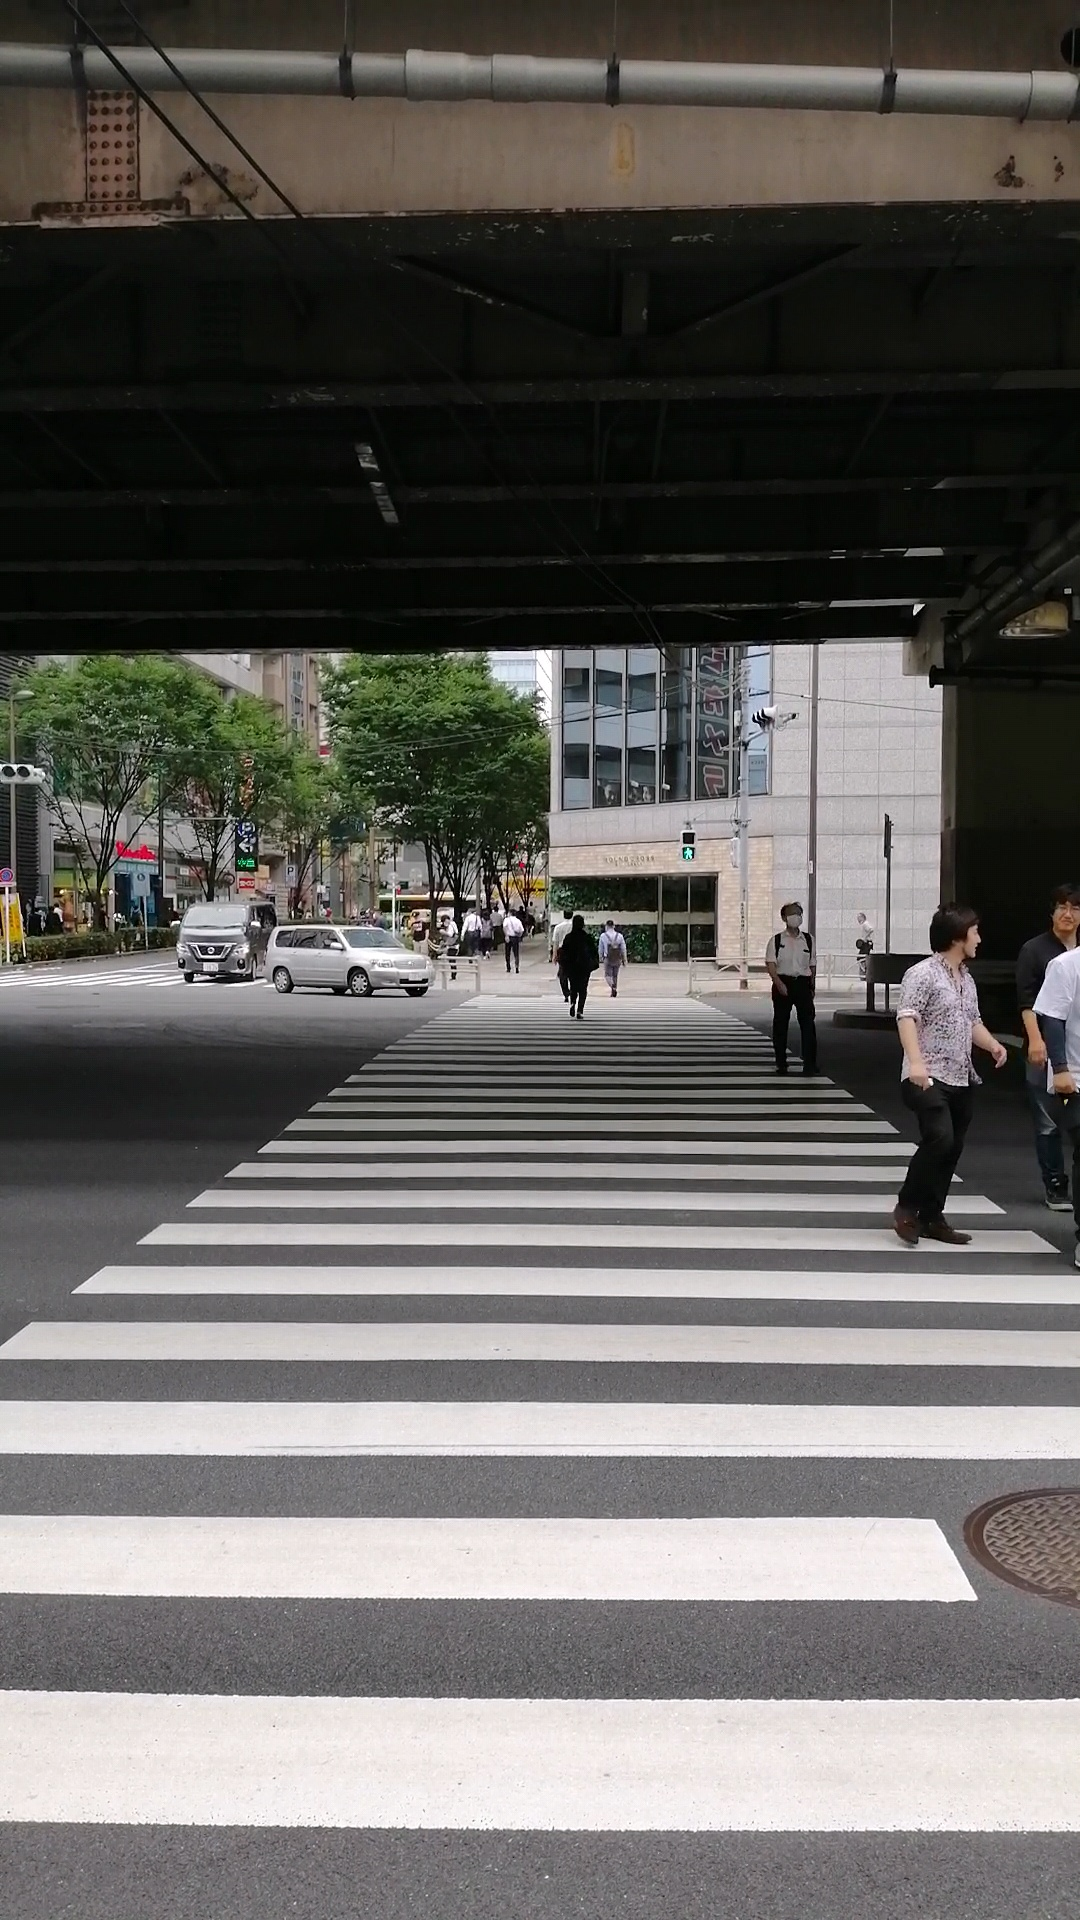green: (679, 829, 698, 862)
